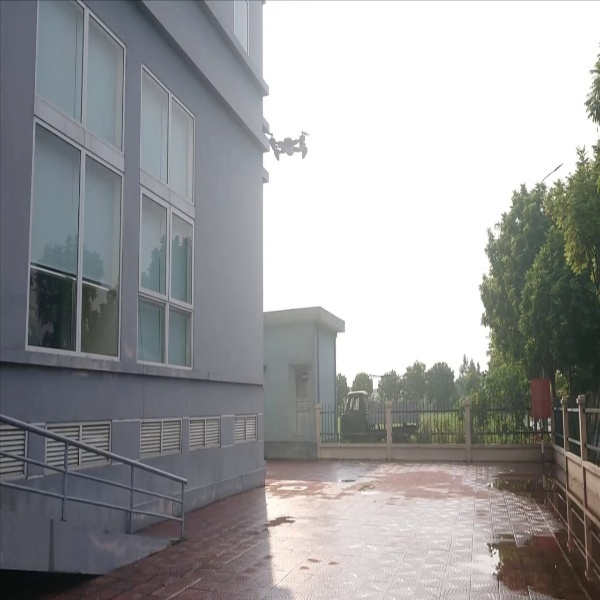drone: (265, 128, 319, 162)
